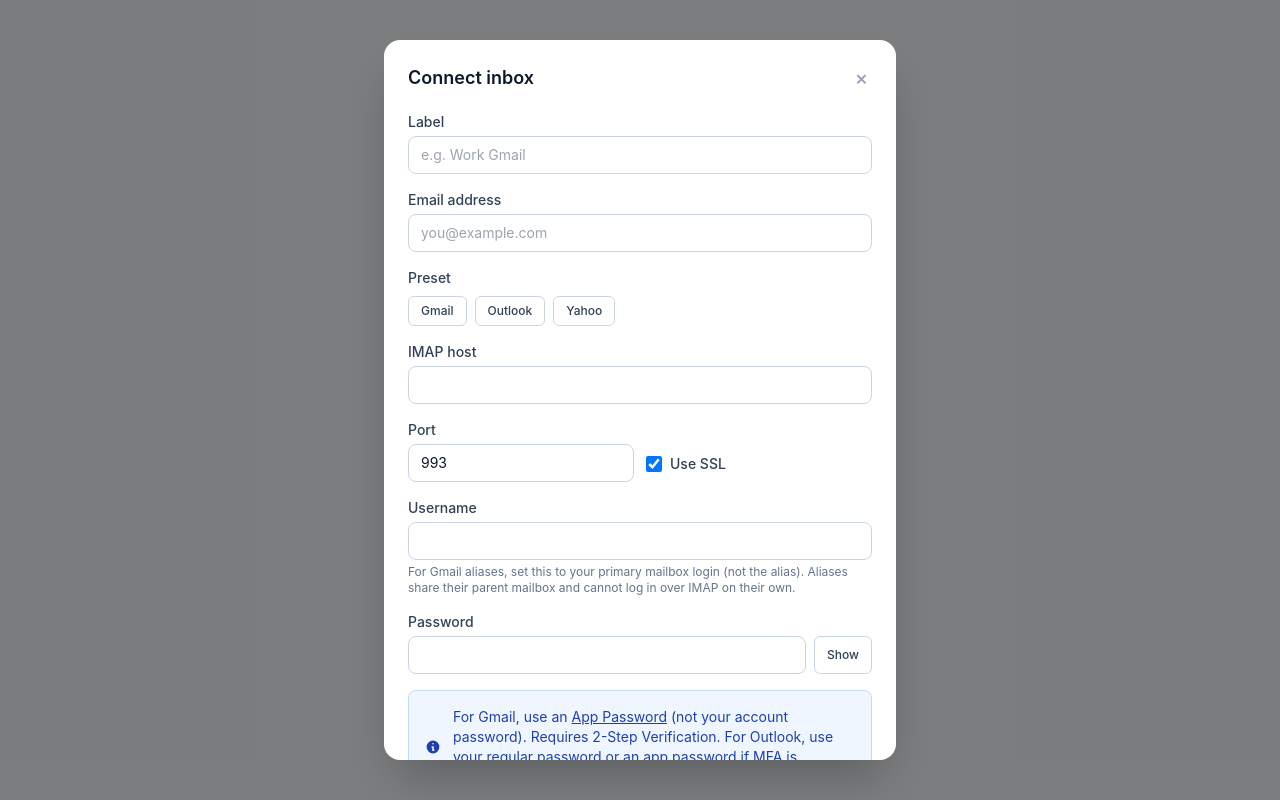
Test: ConnectInboxModal › Yahoo preset fills imap_host to imap.mail.yahoo.com
Click the button named "use yahoo preset": (584, 311) [553,296,615,326]
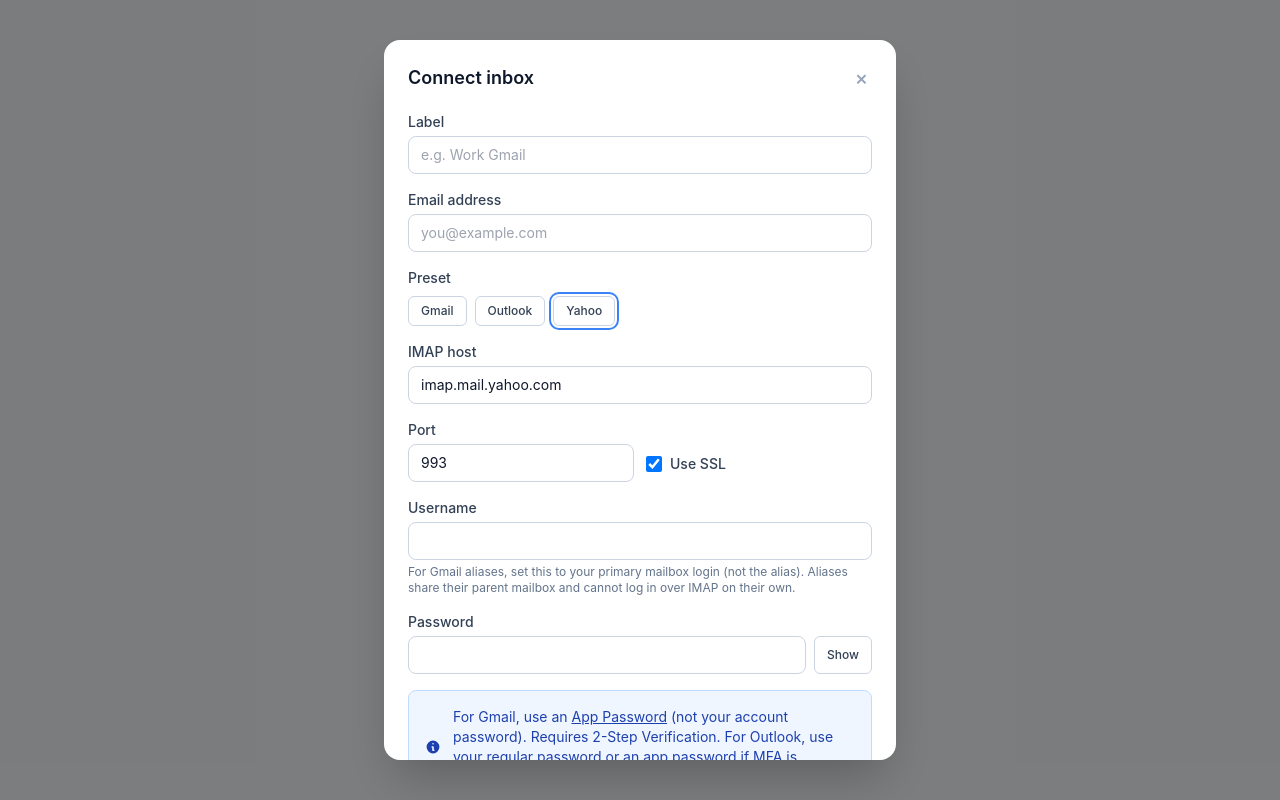
Expected: the field labelled "IMAP host" holds "imap.mail.yahoo.com", [408,366,872,404]
